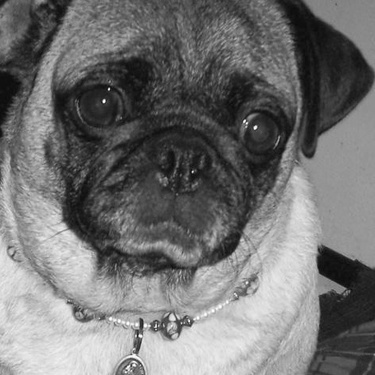dog: (3, 2, 371, 373)
